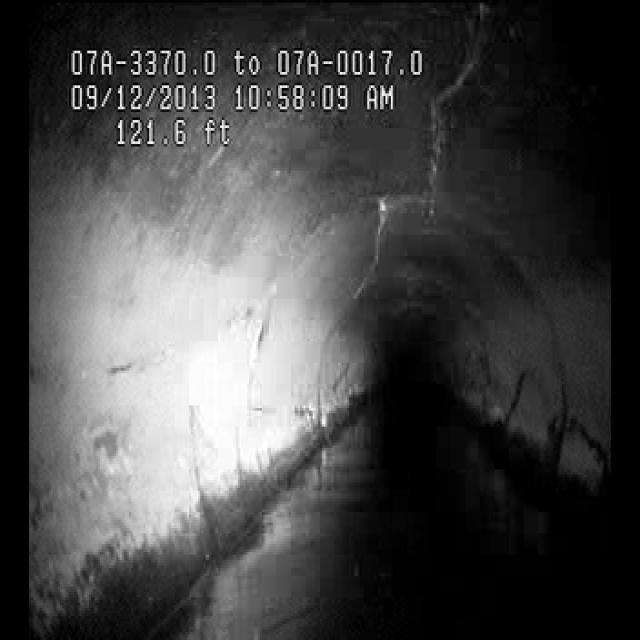Fracture: (388, 109, 472, 271)
